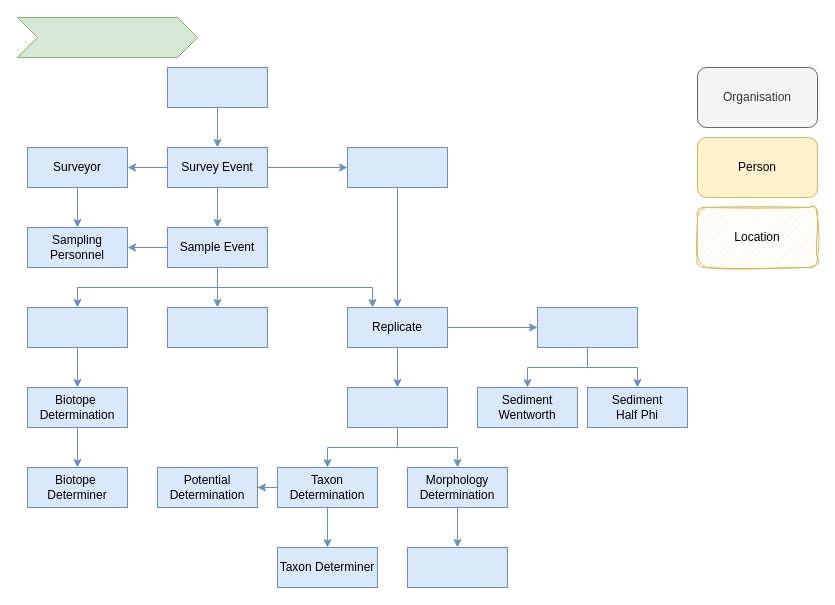
This 835x605 diagram has some shape labels left out. The box of each missing label's shape, as (x1, y1, x2, y2) in pixels:
Biotope Occurrence: (26, 306, 128, 348)
Method: (346, 146, 448, 188)
Morphology Determiner: (406, 546, 508, 588)
Physical: (166, 306, 268, 348)
Reset...: (16, 16, 198, 58)
Sediment: (536, 306, 638, 348)
Survey: (166, 66, 268, 108)
Taxon Occurrence: (346, 386, 448, 428)
